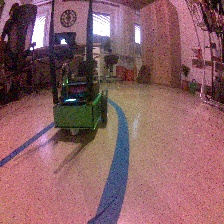rob: (52, 60, 108, 136)
